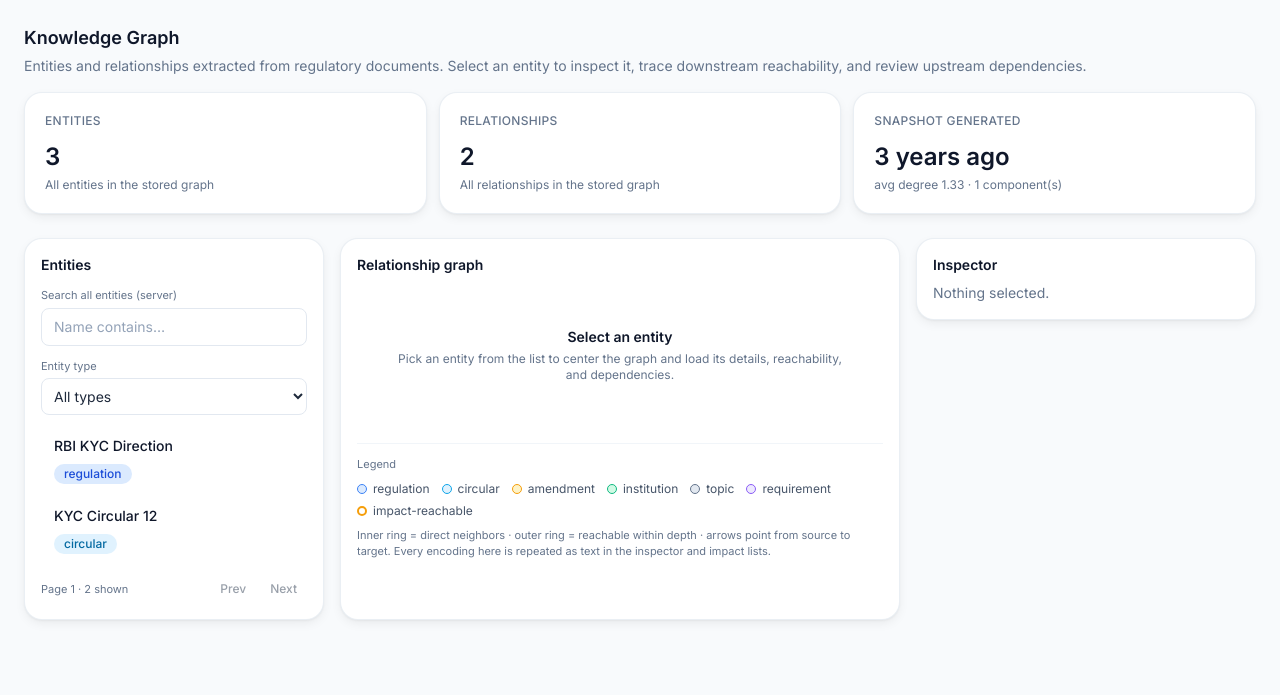
Test case: selection, inspector, relationships › selecting an entity loads inspector details
The width and height of the screenshot is (1280, 695).
Check: the text "RBI KYC Direction" is shown, box [54,437,173,454]
Step 1. Click the button "RBI KYC Direction regulation" → (113, 446), box [41,427,307,493]
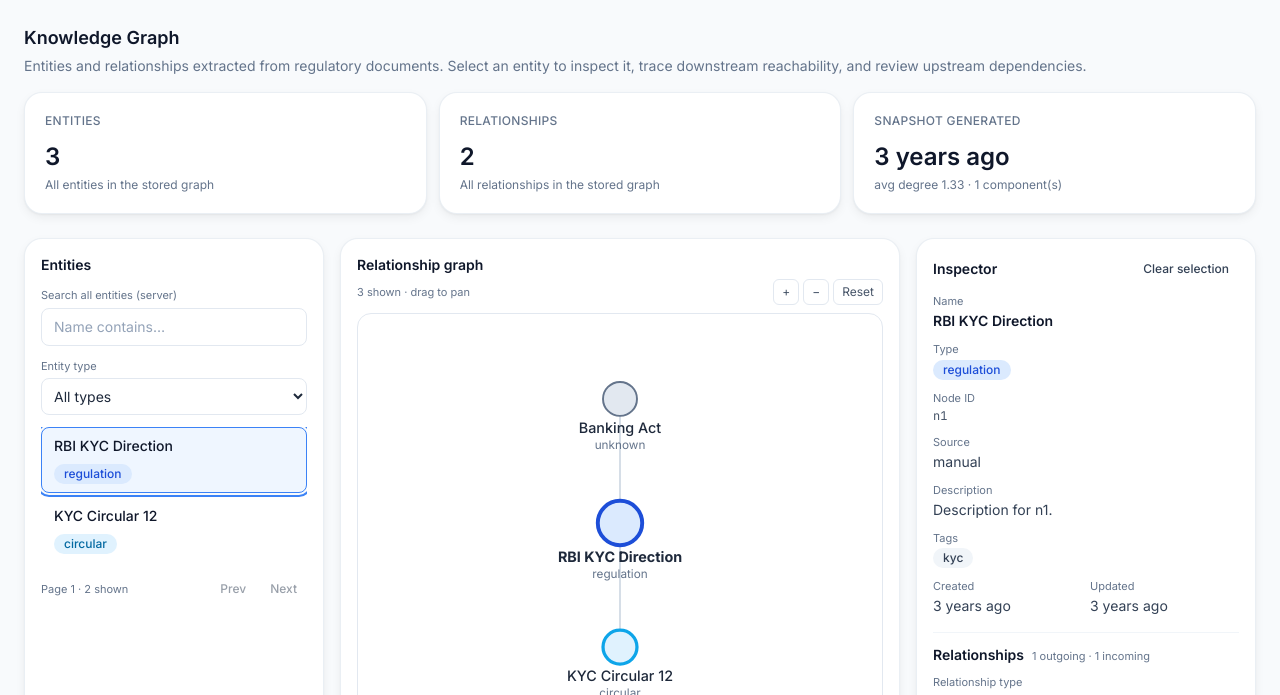
Check: the text "Description for n1." is shown, box [933,501,1052,518]
Check: the text "manual" is shown, box [933,453,981,470]
Check: the text "kyc" is shown, box [933,548,973,568]
